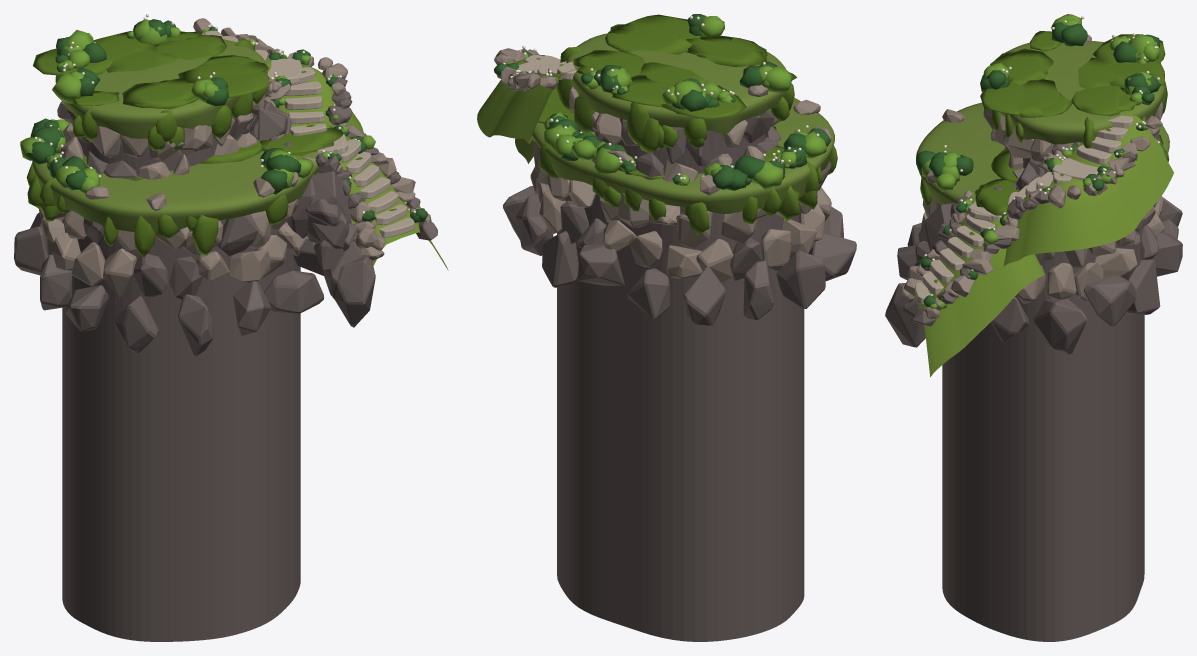
Rendered from promontory4.glb.
3 views of the same model, side by side, from view 1: azimuth 30°, elevation 25°; view 2: azimuth 150°, elevation 25°; view 3: azimuth 270°, elevation 25° (orthographic). The views are drawn at different scales.
Visible parts, largest first — view 1: stone_shadow, stone, moss_drape, moss_top, bush, step_stone, bush_light, grass; view 2: stone_shadow, moss_drape, stone, moss_top, bush_light, bush, grass, step_stone, flower; view 3: stone_shadow, grass, stone, moss_drape, moss_top, step_stone, bush, bush_light, flower.
Part boxes in pixels (x1=…): stone_shadow: x1=14, y1=35, x2=437, y2=641; stone: x1=41, y1=18, x2=431, y2=296; moss_drape: x1=26, y1=31, x2=396, y2=257; moss_top: x1=32, y1=39, x2=318, y2=234; bush: x1=26, y1=19, x2=427, y2=222; step_stone: x1=201, y1=30, x2=415, y2=237; bush_light: x1=20, y1=19, x2=428, y2=214; grass: x1=201, y1=29, x2=448, y2=270; stone_shadow: x1=503, y1=48, x2=856, y2=641; moss_drape: x1=536, y1=14, x2=837, y2=235; stone: x1=494, y1=48, x2=831, y2=282; moss_top: x1=531, y1=33, x2=834, y2=213; bush_light: x1=497, y1=16, x2=826, y2=190; bush: x1=494, y1=14, x2=831, y2=190; grass: x1=477, y1=58, x2=579, y2=163; step_stone: x1=517, y1=55, x2=576, y2=79; flower: x1=503, y1=16, x2=819, y2=180; stone_shadow: x1=885, y1=133, x2=1182, y2=641; grass: x1=909, y1=113, x2=1173, y2=377; stone: x1=901, y1=34, x2=1164, y2=318; moss_drape: x1=920, y1=31, x2=1169, y2=283; moss_top: x1=916, y1=41, x2=1169, y2=205; step_stone: x1=915, y1=115, x2=1133, y2=304; bush: x1=916, y1=22, x2=1160, y2=306; bush_light: x1=921, y1=14, x2=1166, y2=309; flower: x1=924, y1=16, x2=1159, y2=298.
Size of the model in its own units: 29.37 by 43.58 by 22.32.
